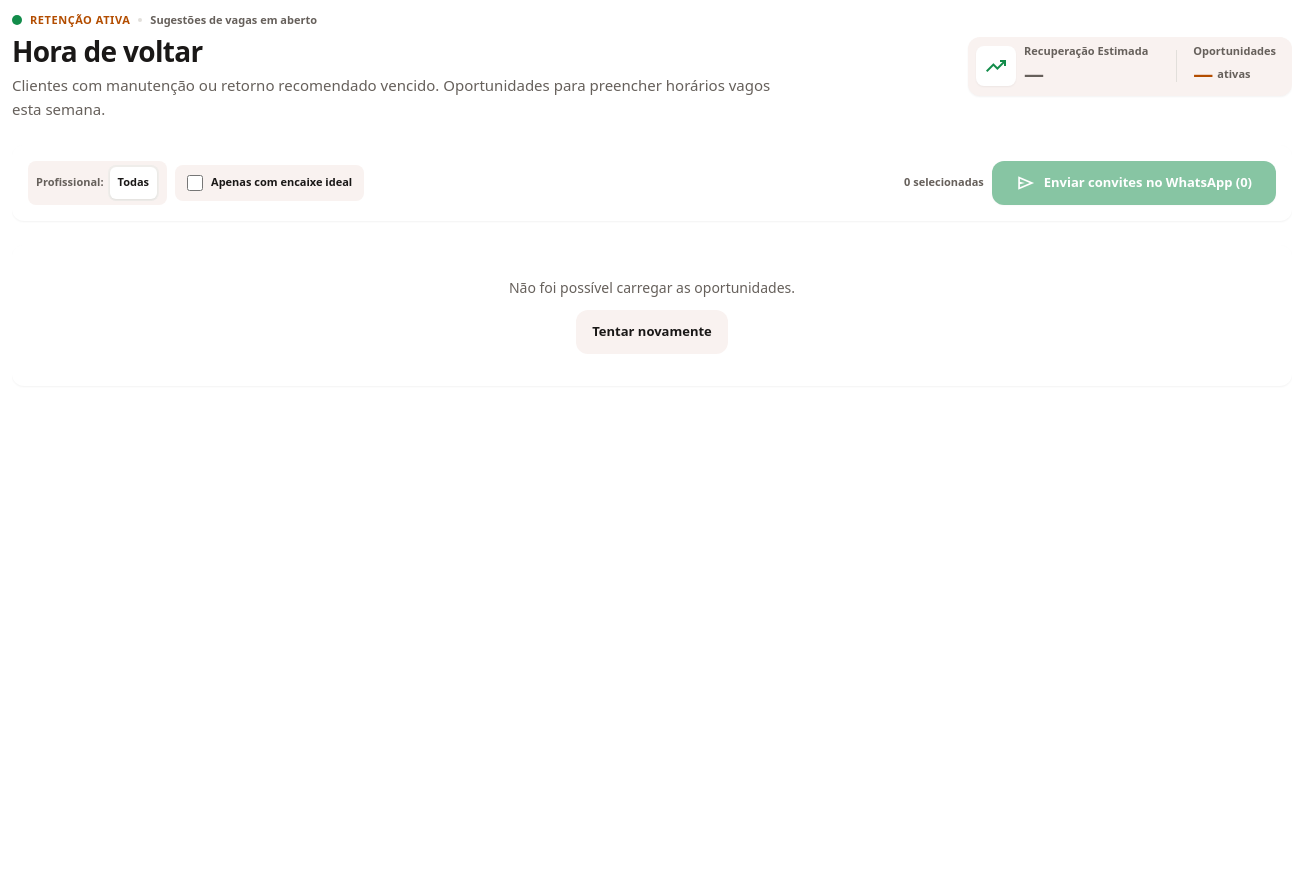
HoraDeVoltar › erro na busca oferece tentar novamente
Click the button "Tentar novamente" at (652, 332), box [576,310,728,354]
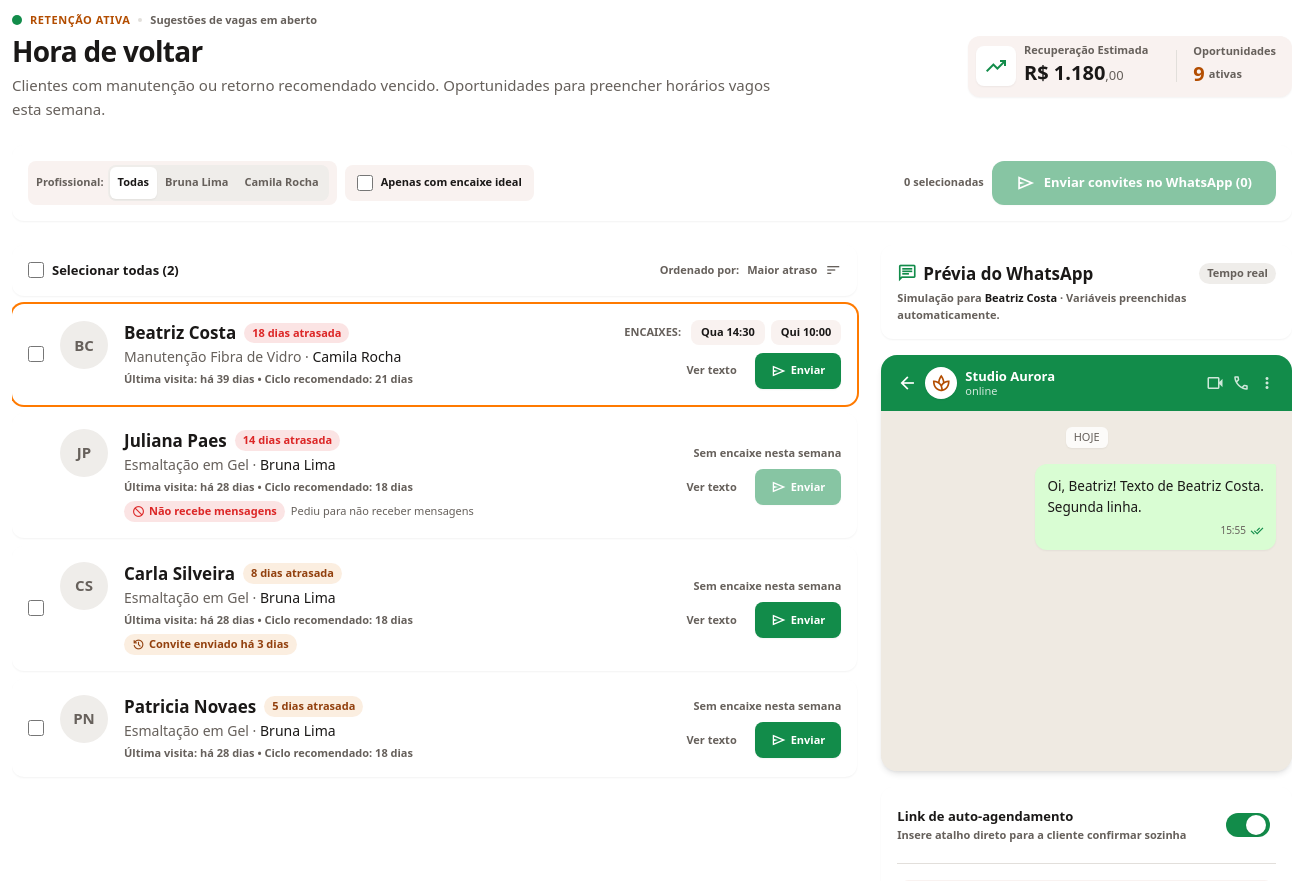
Expected: the text "18 dias atrasada" is shown, [244,323,350,343]
